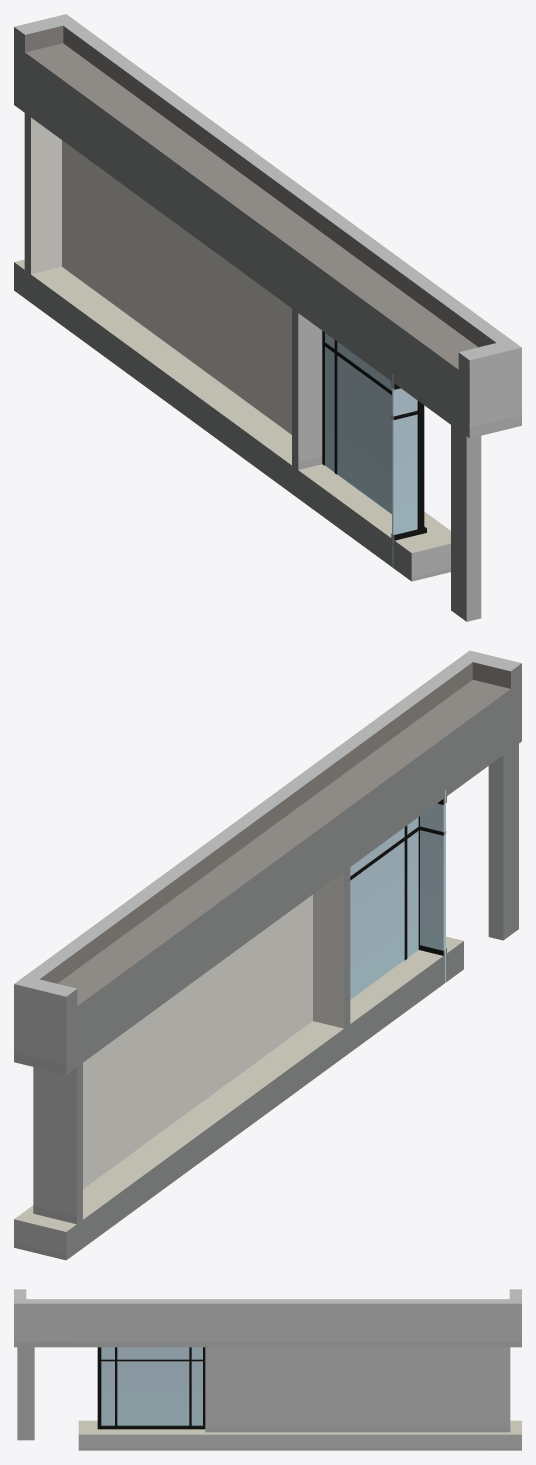
The model's file is Shop_wall_Right_type.FBX.
3 views of the same model, one above another, from view 1: azimuth 30°, elevation 25°; view 2: azimuth 150°, elevation 25°; view 3: azimuth 270°, elevation 25° (orthographic). The views are drawn at different scales.
Visible parts, largest first — view 1: Shop_wall_Right_type1_003; view 2: Shop_wall_Right_type1_003; view 3: Shop_wall_Right_type1_003.
Boxes of the visible parts, x1=… form: Shop_wall_Right_type1_003: x1=14, y1=14, x2=521, y2=621; Shop_wall_Right_type1_003: x1=14, y1=650, x2=521, y2=1260; Shop_wall_Right_type1_003: x1=14, y1=1289, x2=521, y2=1450.
Bounding box in the file's own units: 332 × 1591 × 4983.
1 material, 1 textured.
